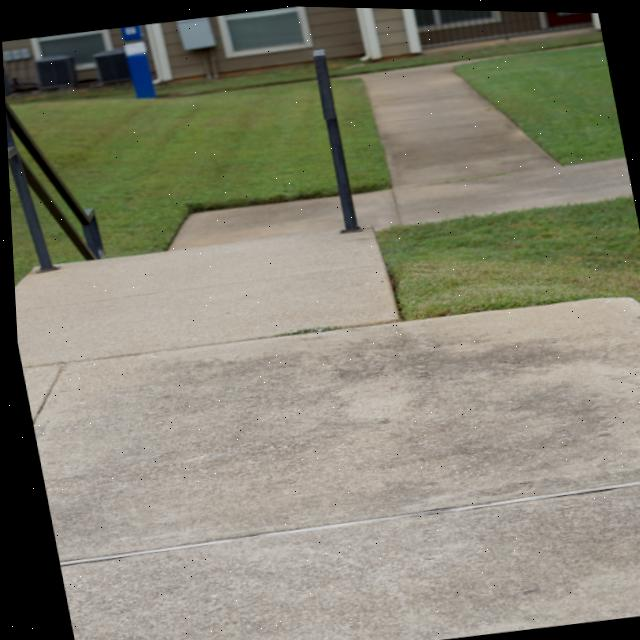Obstacle: (4, 100, 101, 272), (313, 49, 359, 232)
Sidewalk: (12, 196, 640, 640), (351, 63, 631, 229)
